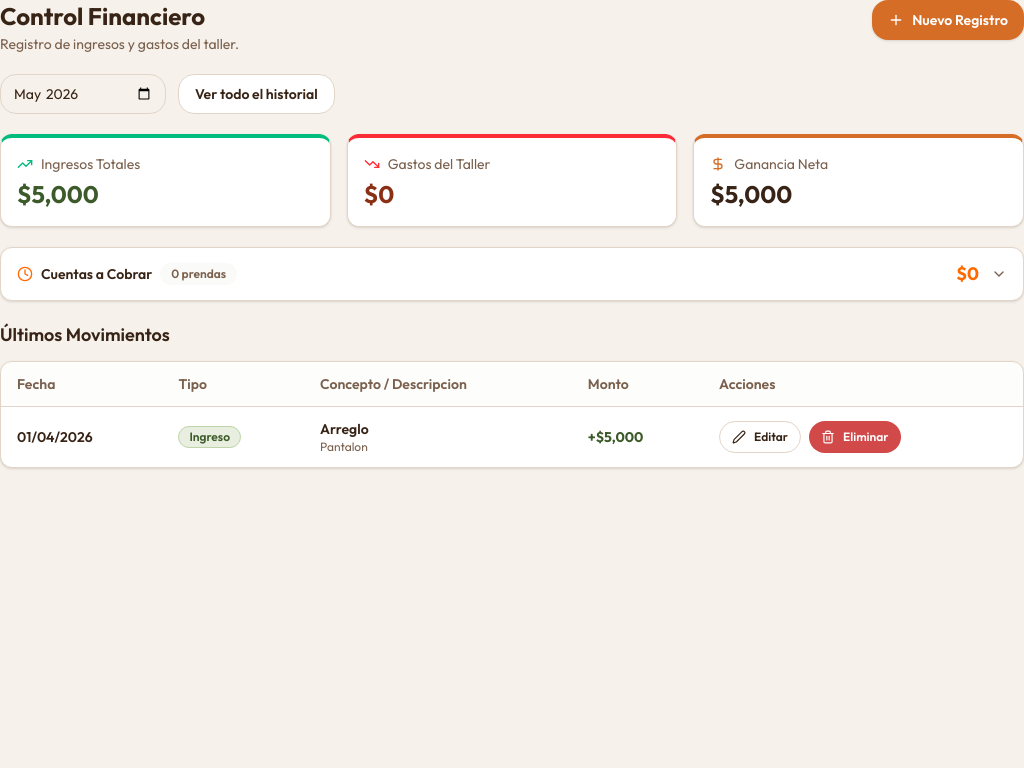
Test: Z16 — Edit finance › opens edit modal pre-populated with finance data
Expected: the text "Arreglo" is shown, [320,420,369,438]
Click the button "Editar" at [760, 437], box [719,421,801,453]
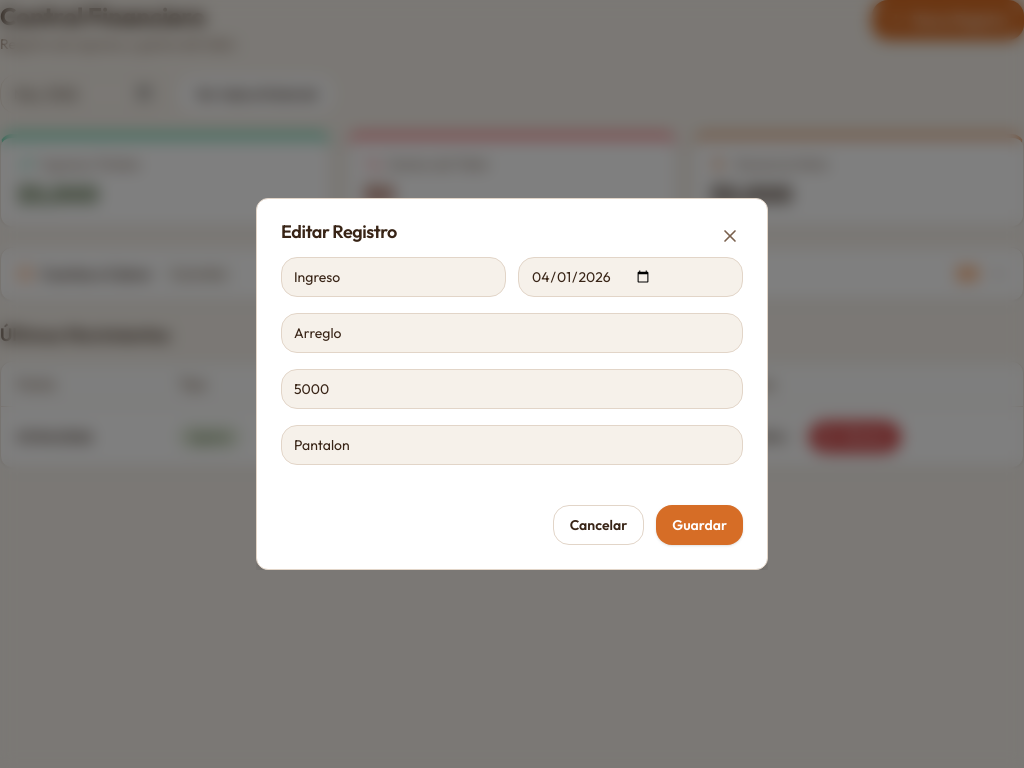
Now the heading "Editar Registro" is shown, box [281,220,397,243]
Now the 1st field named "category" holds "Arreglo", box [281,313,743,353]
Now the number field named "amount" holds "5000", box [281,369,743,409]
